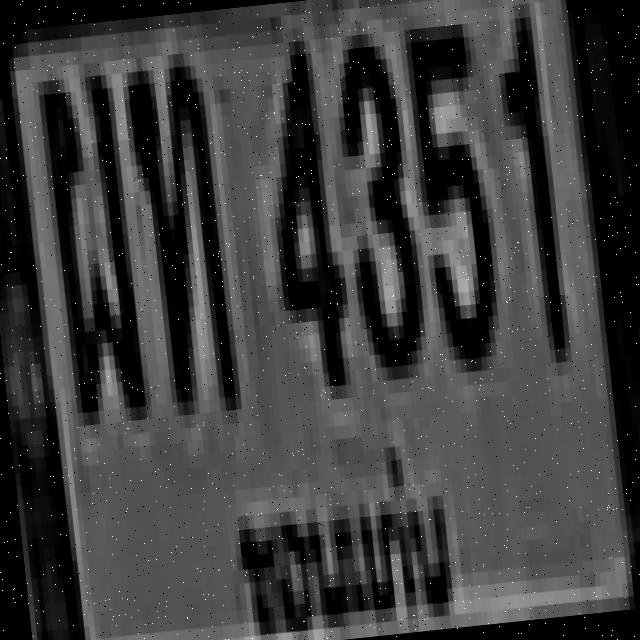1: (486, 0, 599, 414)
3: (322, 9, 441, 438)
32ThorThaHan: (116, 30, 254, 463)
37PhorPhueng: (21, 38, 162, 472)
4: (245, 29, 369, 440)
5: (388, 0, 521, 430)
KhonKaen: (206, 428, 501, 640)
